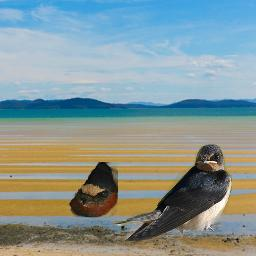Swallow: (111, 144, 232, 241), (69, 162, 118, 218)
